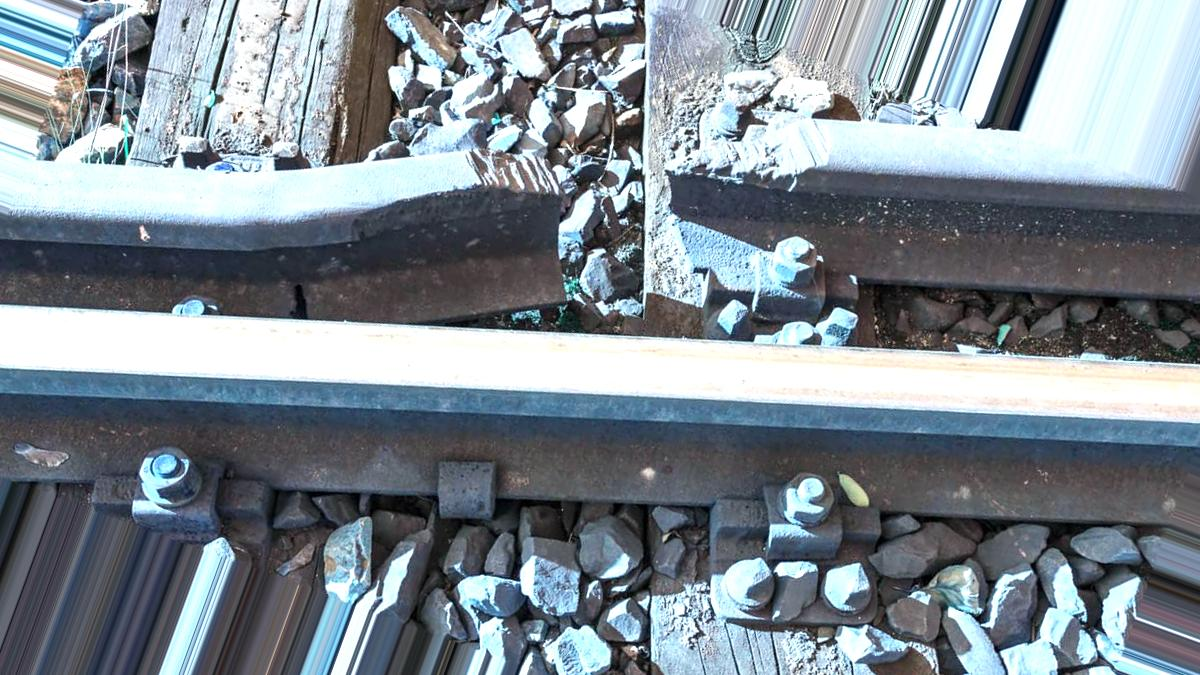tracks_fault: (445, 94, 864, 325)
